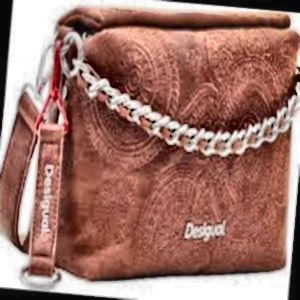desigual: (118, 82, 300, 300), (40, 80, 76, 238)
